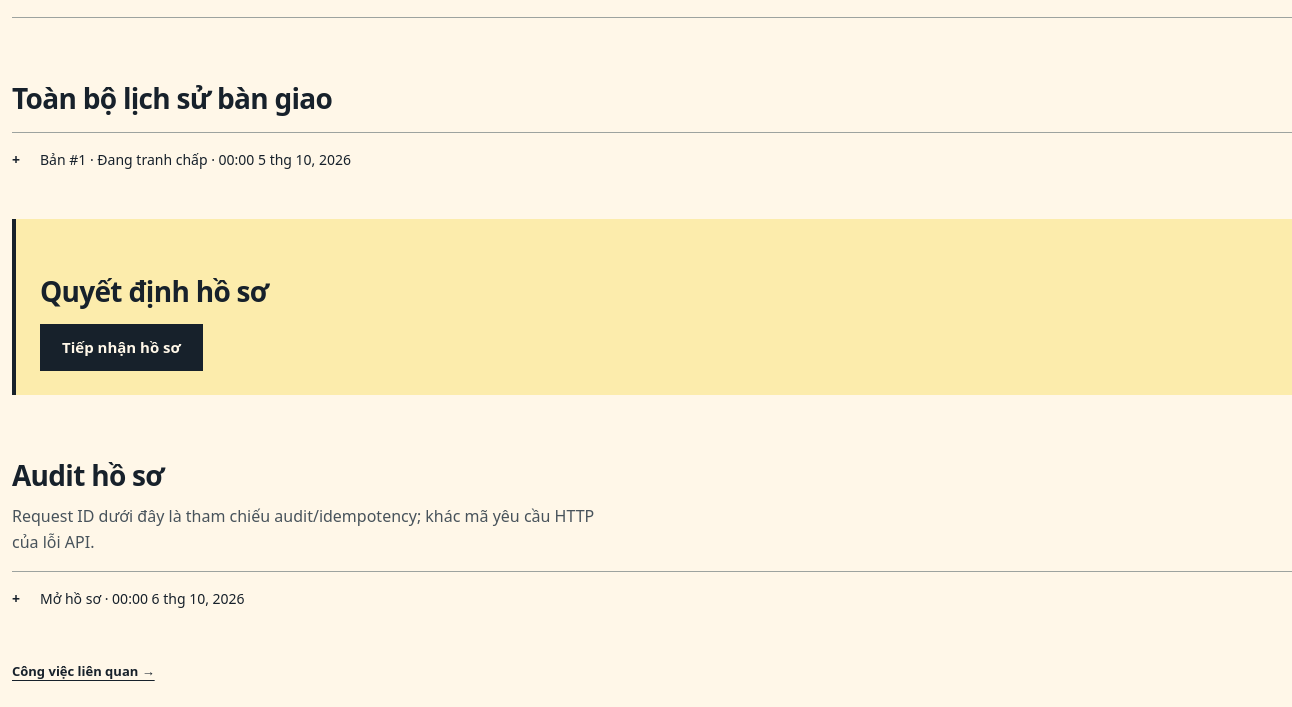
Scenario: Step 6 Admin workspace › Admin claims before resolution and becomes the valid resolver
(page scrolled)
Click the button "Tiếp nhận hồ sơ" at x=121, y=347, box [40,324,203,371]
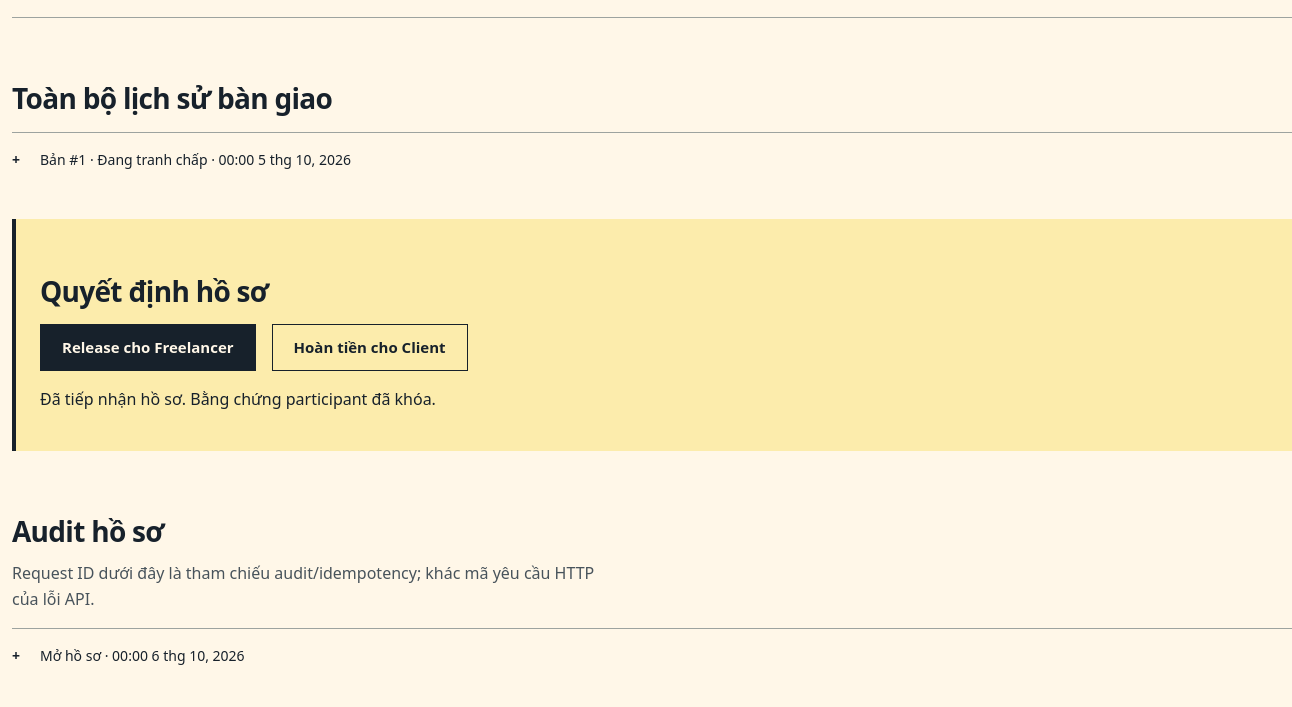
Now the button "Release cho Freelancer" is shown, box [40,324,256,371]
Now the text "Bằng chứng participant đã khóa" is shown, box [40,388,436,410]
